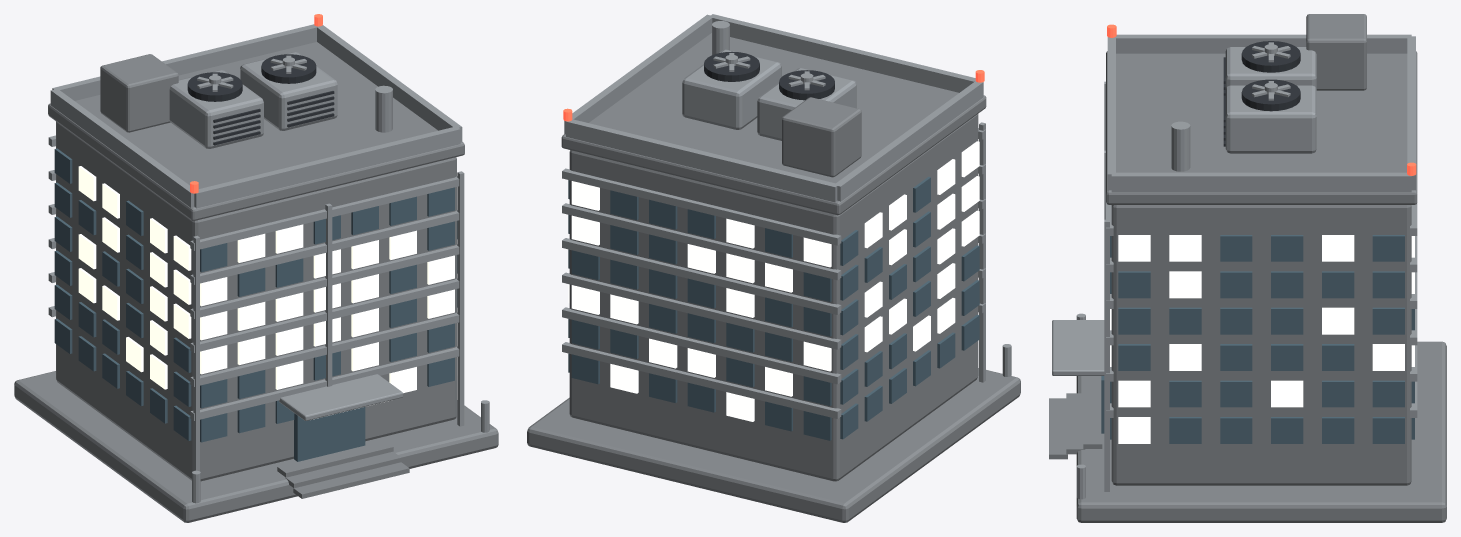
File: office.glb
3 renders of one model, left to right at view 1: azimuth 30°, elevation 25°; view 2: azimuth 150°, elevation 25°; view 3: azimuth 270°, elevation 25°, orthographic. The views are drawn at different scales.
Parts seen in each view (by area): view 1: ZDC_office; view 2: ZDC_office; view 3: ZDC_office.
Part boxes in pixels (bbox=[...]): ZDC_office: bbox=[14, 14, 498, 522]; ZDC_office: bbox=[527, 14, 1020, 522]; ZDC_office: bbox=[1049, 14, 1446, 522].
Size of the model in its own units: 2.05 by 2.19 by 2.1.
